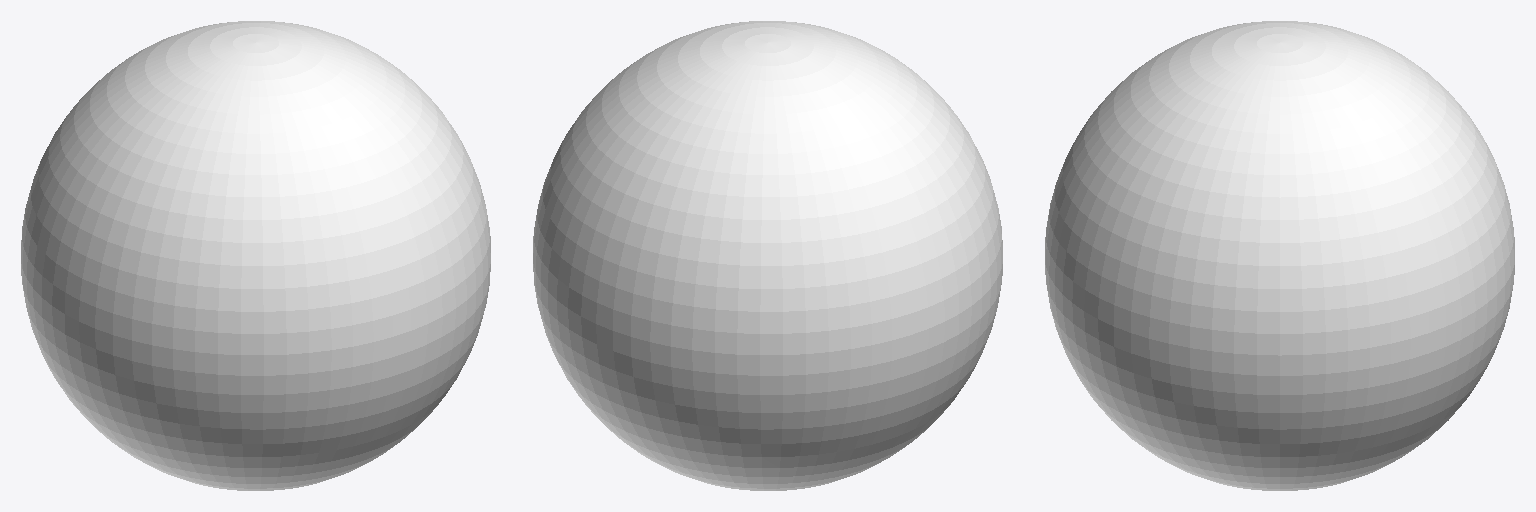
Rendered from LoseEmoji.obj.
The picture shows the model from 3 angles: view 1: azimuth 30°, elevation 25°; view 2: azimuth 150°, elevation 25°; view 3: azimuth 270°, elevation 25°; orthographic projection.
Bounding box in the file's own units: 1 × 1 × 1.